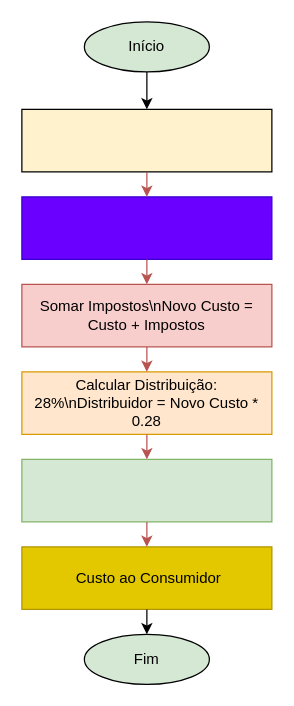
This 294x706 diagram has some shape labels left out. Here are the shapes that lost their labels. From the top down, the box of each, then its label:
(21, 108, 272, 172): Custo de Fábrica
(21, 196, 272, 259): Calcular Impostos: 45%\nImpostos = Custo * 0.45
(21, 458, 272, 522): Somar Distribuidor\nCusto Final = Novo Custo + Distribuidor
